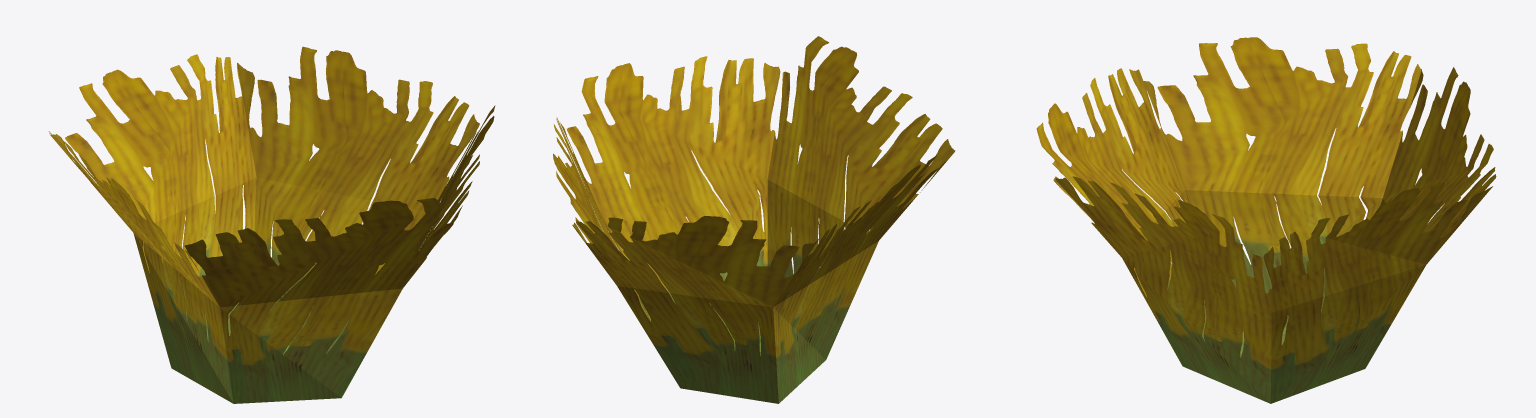
3 views of the same model, side by side, from view 1: azimuth 30°, elevation 25°; view 2: azimuth 150°, elevation 25°; view 3: azimuth 270°, elevation 25° (orthographic). The views are drawn at different scales.
Visible parts, largest first — view 1: BT_7_F_1_3; view 2: BT_7_F_1_3; view 3: BT_7_F_1_3.
Boxes of the visible parts, x1,y1,x2,y2 form: BT_7_F_1_3: (48, 46, 495, 403); BT_7_F_1_3: (553, 36, 955, 403); BT_7_F_1_3: (1036, 37, 1496, 403).
Size of the model in its own units: 3.27 by 2.06 by 3.5.
1 material, 1 textured.
